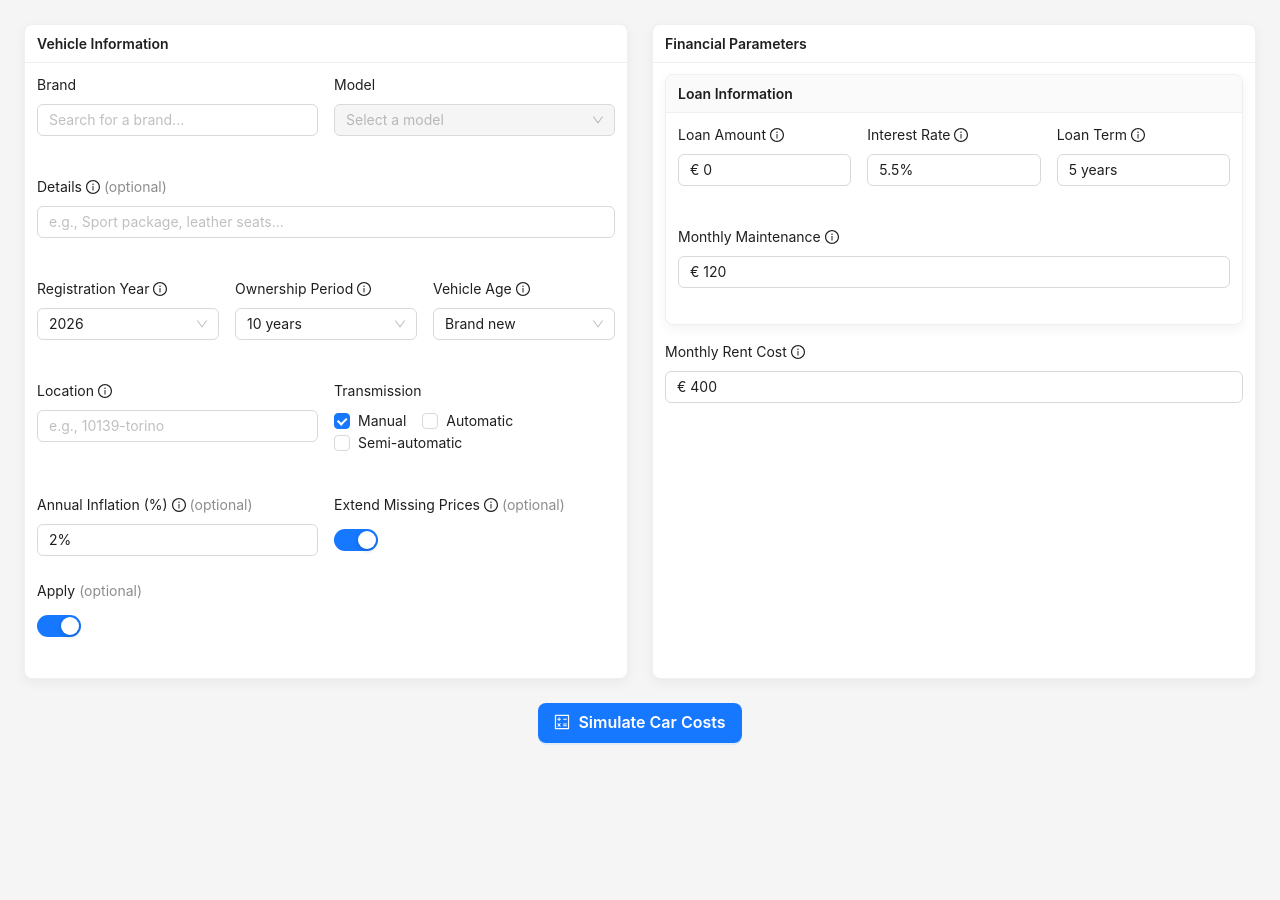
Test: EstimatorPage › handles validation errors correctly
// Submit form without required fields
Step 1. Click the button "Simulate Car Costs" → (640, 723), box [538,703,742,743]
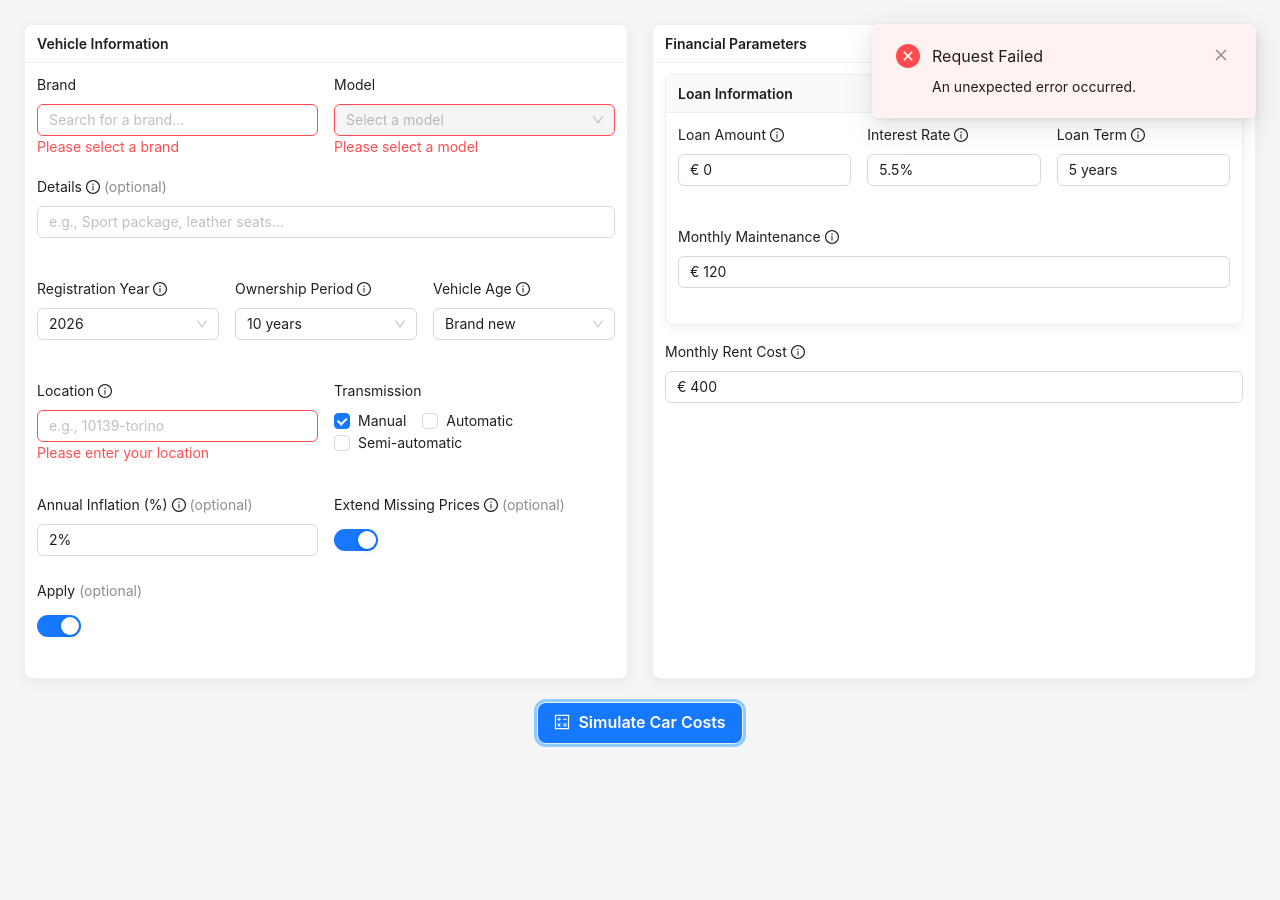
Expected: the text "Please select a brand" is shown, [37,138,179,155]
